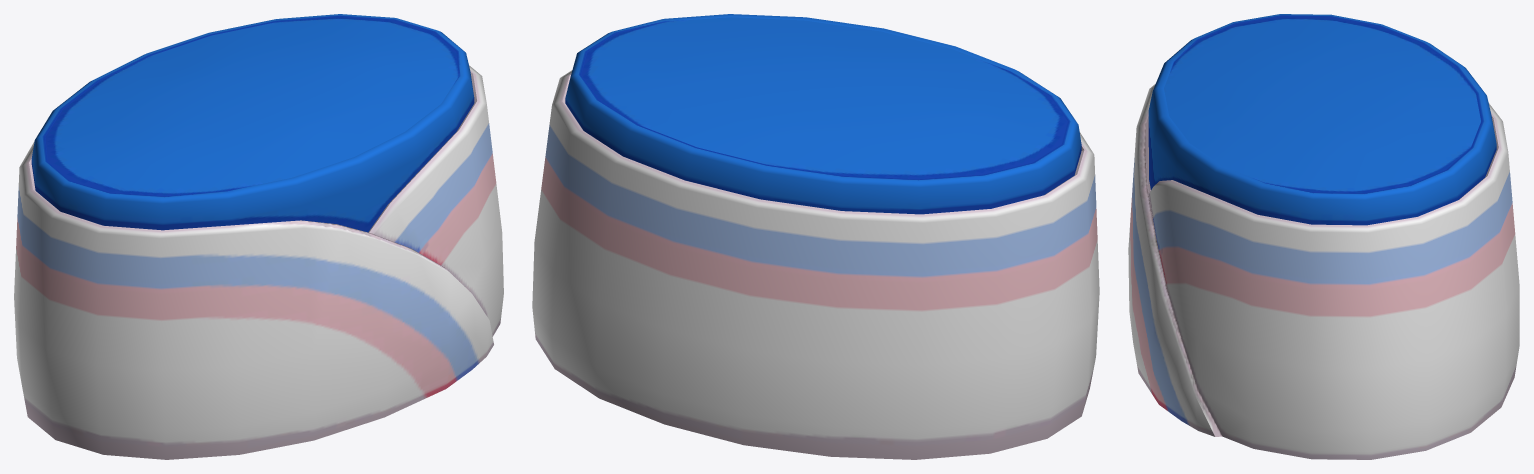
Rendered from HishiAkebonoHatGround.fbx.
3 views of the same model, side by side, from view 1: azimuth 30°, elevation 25°; view 2: azimuth 150°, elevation 25°; view 3: azimuth 270°, elevation 25° (orthographic). The views are drawn at different scales.
Visible parts, largest first — view 1: Hat; view 2: Hat; view 3: Hat.
Part boxes in pixels (x1=…): Hat: x1=14, y1=14, x2=503, y2=459; Hat: x1=532, y1=14, x2=1099, y2=459; Hat: x1=1128, y1=14, x2=1519, y2=459.
Bounding box in the file's own units: 0.0454 × 0.0255 × 0.033.
